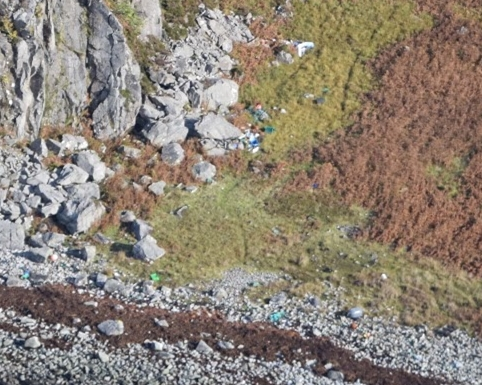scattered_barrel: (296, 76, 340, 110), (340, 302, 379, 340)
together_barrel: (233, 100, 285, 156), (274, 32, 317, 64)
white_in_green: (424, 305, 474, 350), (258, 298, 297, 333), (336, 295, 375, 330), (37, 242, 71, 272), (10, 258, 44, 288), (136, 263, 170, 293)
